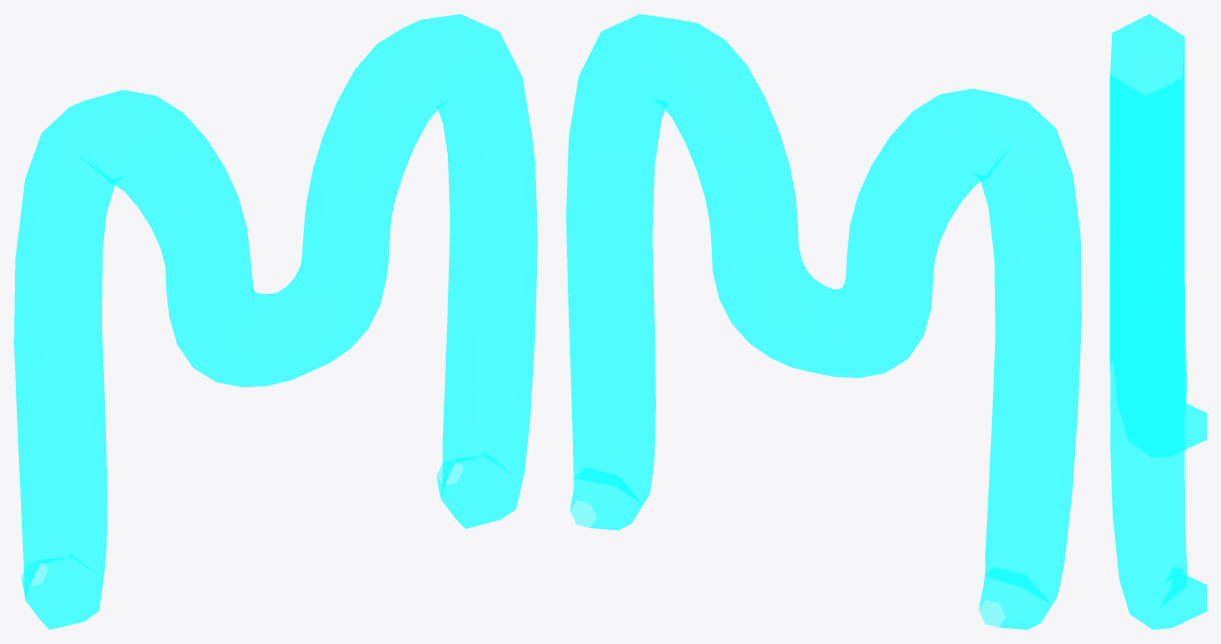
3 renders of one model, left to right at view 1: azimuth 30°, elevation 25°; view 2: azimuth 150°, elevation 25°; view 3: azimuth 270°, elevation 25°, orthographic. The views are drawn at different scales.
Visible parts, largest first — view 1: neon_letter_m.001_144; view 2: neon_letter_m.001_144; view 3: neon_letter_m.001_144.
Boxes of the visible parts, box(x1,y1,x2,y2) form: neon_letter_m.001_144: box(14, 14, 537, 629); neon_letter_m.001_144: box(566, 14, 1081, 629); neon_letter_m.001_144: box(1110, 14, 1206, 629).
Bounding box in the file's own units: 0.8625 × 0.8292 × 0.1634.
